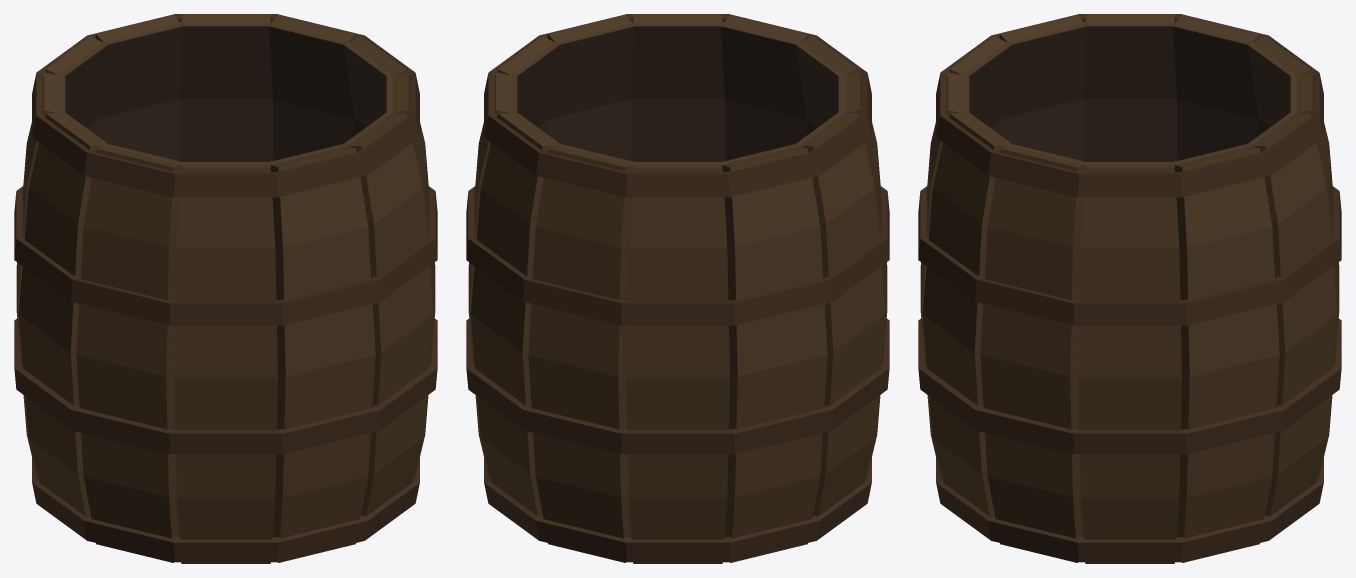
The model's file is Barrel_Open.glb.
3 renders of one model, left to right at view 1: azimuth 30°, elevation 25°; view 2: azimuth 150°, elevation 25°; view 3: azimuth 270°, elevation 25°, orthographic.
Visible parts, largest first — view 1: Barrel_Open.001; view 2: Barrel_Open.001; view 3: Barrel_Open.001.
Boxes of the visible parts, x1,y1,x2,y2 form: Barrel_Open.001: (14,14,437,563); Barrel_Open.001: (466,14,889,563); Barrel_Open.001: (918,14,1341,563).
Size of the model in its own units: 0.8947 by 0.9229 by 0.8947.
Materials: 2 (2 with a texture image).
